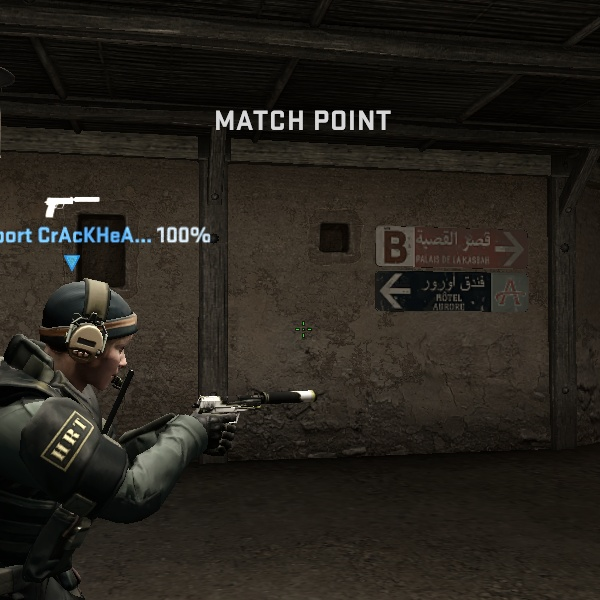ct_body: (0, 266, 228, 595)
ct_head: (16, 267, 148, 404)
